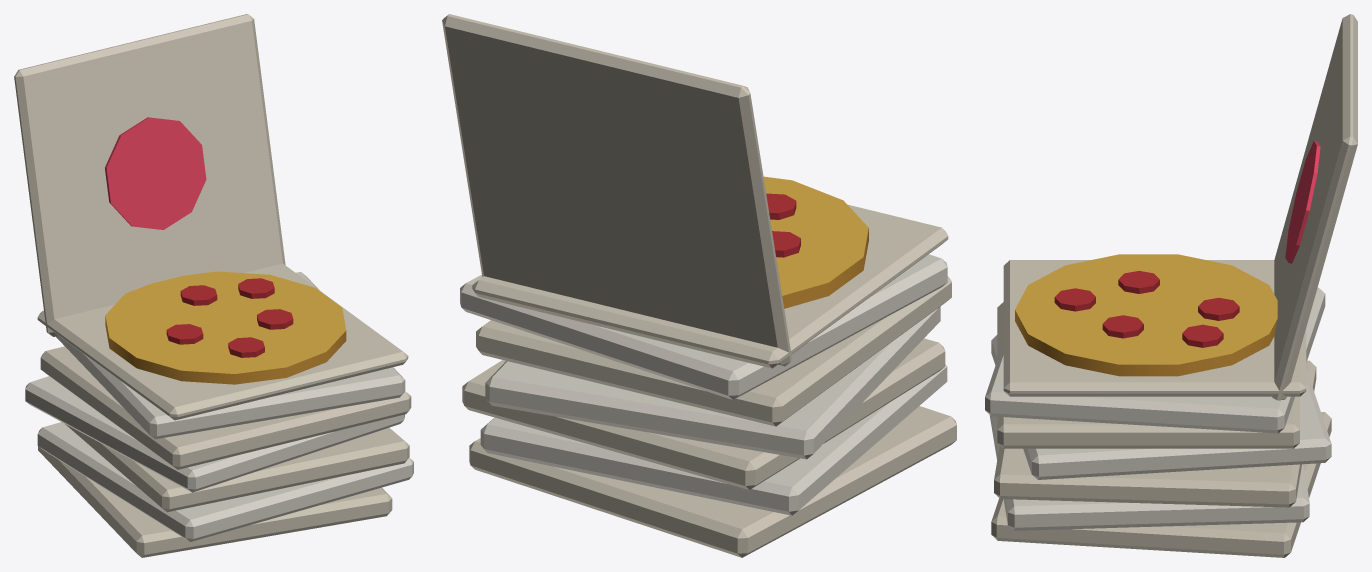
File: pizza_stack.glb
The picture shows the model from 3 angles, left to right: view 1: azimuth 30°, elevation 25°; view 2: azimuth 150°, elevation 25°; view 3: azimuth 270°, elevation 25°; orthographic projection. The views are drawn at different scales.
Parts seen in each view (by area): view 1: body; view 2: body; view 3: body.
Boxes of the visible parts, bbox=[...] form: body: bbox=[14, 14, 413, 557]; body: bbox=[442, 14, 956, 557]; body: bbox=[985, 14, 1357, 557].
Size of the model in its own units: 1.11 by 1.44 by 1.17.
